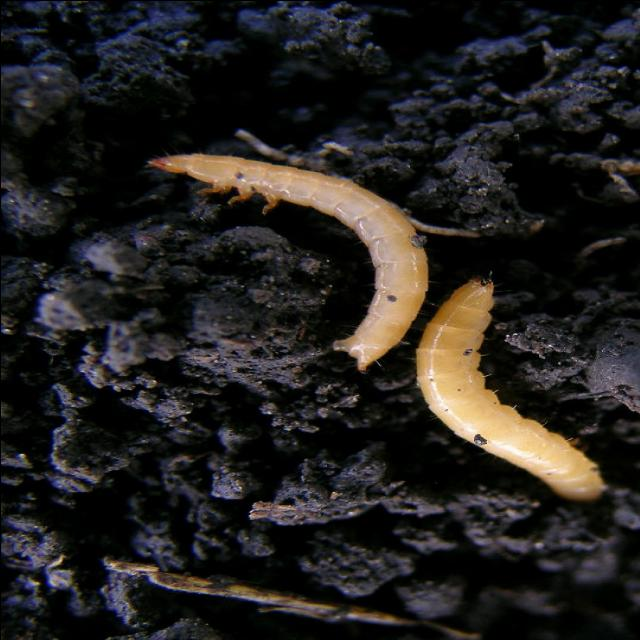wireworm: (128, 139, 435, 369), (372, 260, 612, 514)
